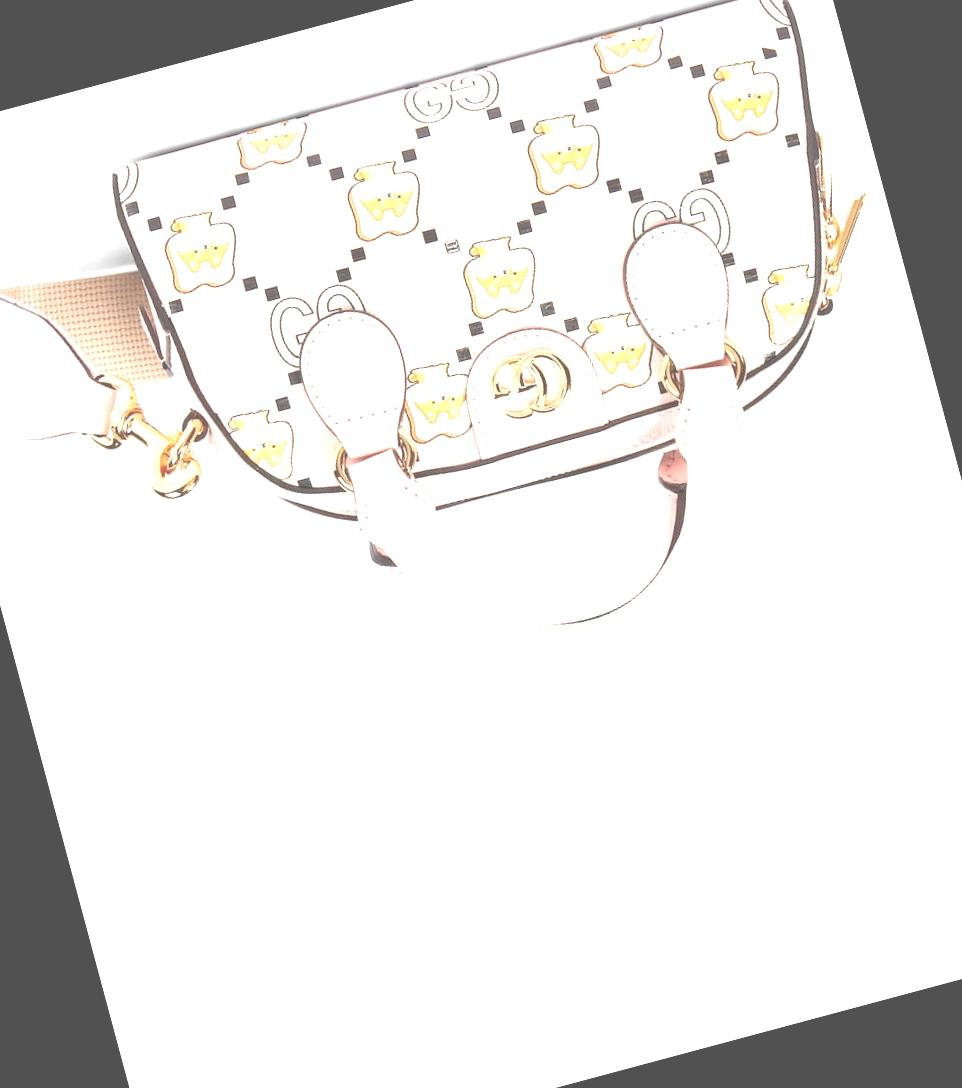GUCCI: (482, 340, 578, 426)
